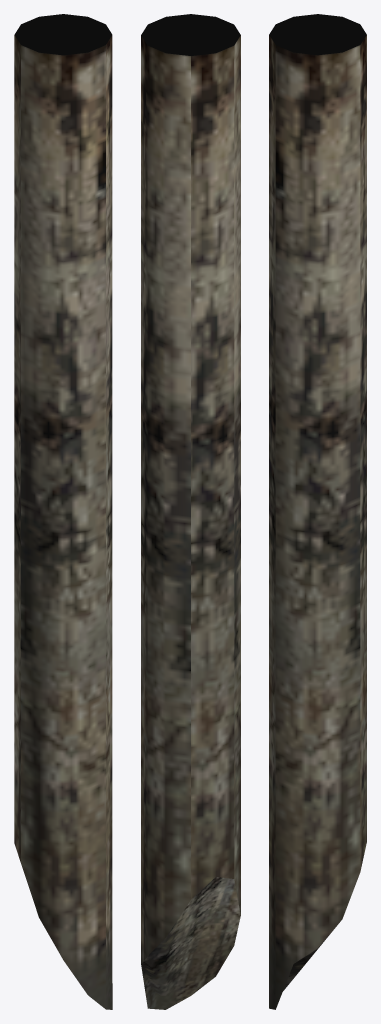
Rendered from channelmarker02b_chunk01c.glb.
3 renders of one model, left to right at view 1: azimuth 90°, elevation 25°; view 2: azimuth 210°, elevation 25°; view 3: azimuth 270°, elevation 25°, orthographic.
Visible parts, largest first — view 1: channelmarker02b_chunk01c; view 2: channelmarker02b_chunk01c; view 3: channelmarker02b_chunk01c.
Part boxes in pixels (box(x1,y1,x2,y2)): channelmarker02b_chunk01c: box(14, 14, 112, 1009); channelmarker02b_chunk01c: box(141, 14, 240, 1009); channelmarker02b_chunk01c: box(269, 14, 366, 1009).
Bounding box in the file's own units: 0.1119 × 1.23 × 0.1119.
1 material, 1 textured.
